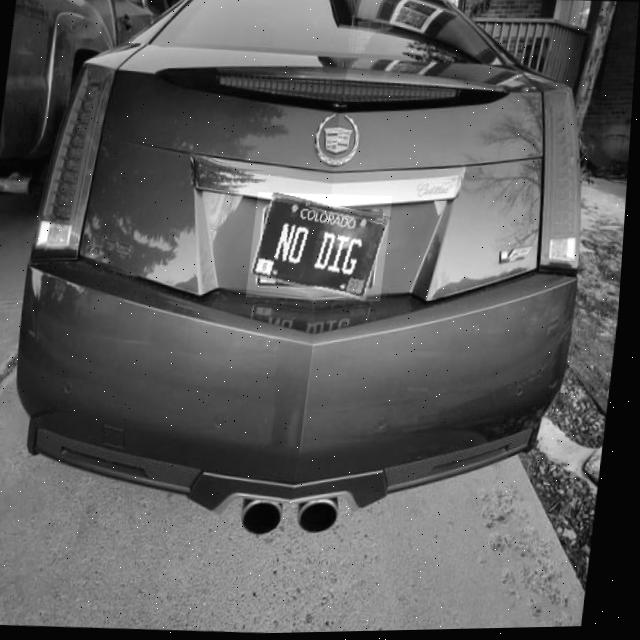LicensePlate: (253, 195, 393, 303)
